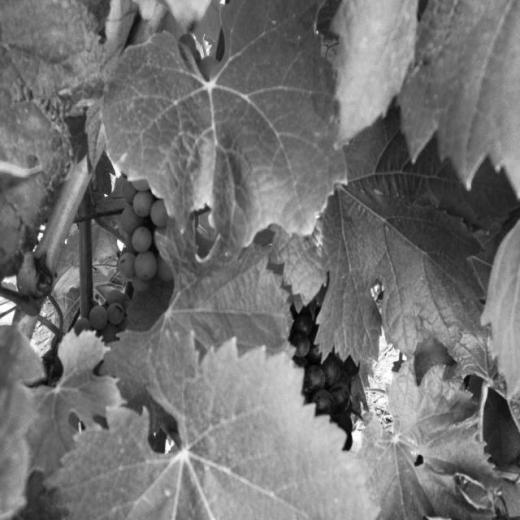Orange: (76, 179, 173, 343), (290, 288, 358, 443)
